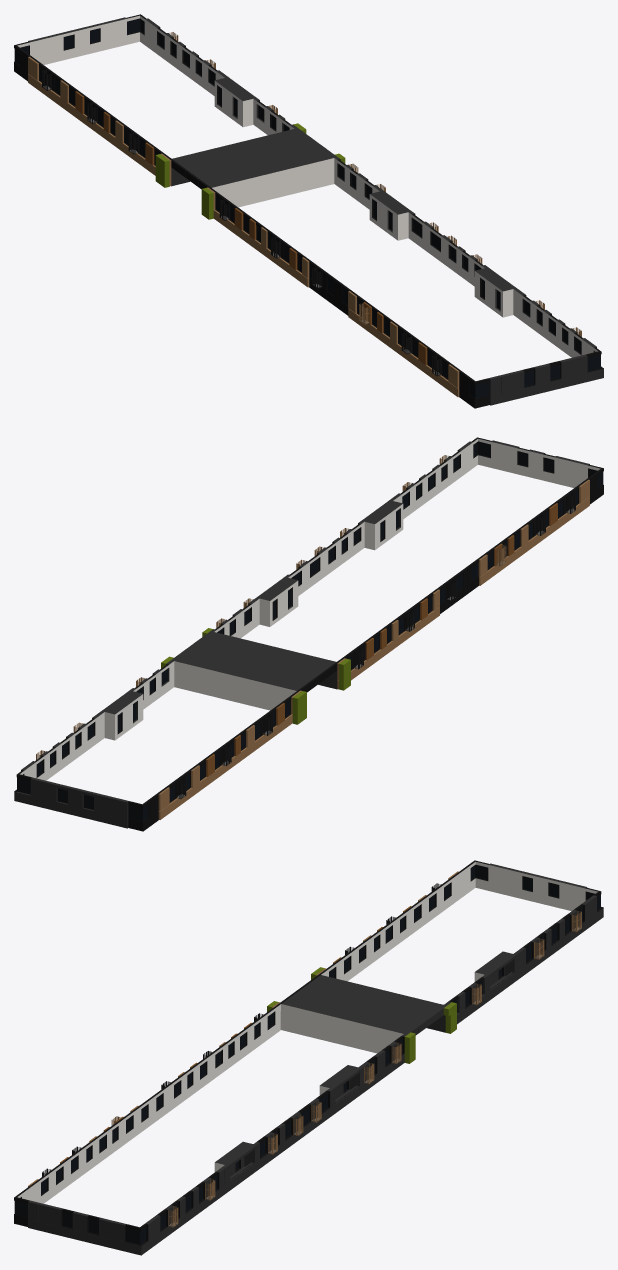
File: floor_2_ext.FBX
3 views of the same model, one above another, from view 1: azimuth 30°, elevation 25°; view 2: azimuth 150°, elevation 25°; view 3: azimuth 330°, elevation 25° (orthographic).
Parts seen in each view (by area): view 1: floor_2_ext; view 2: floor_2_ext; view 3: floor_2_ext.
Boxes of the visible parts, <box> form: floor_2_ext: <box>14,14,603,408</box>; floor_2_ext: <box>14,437,603,831</box>; floor_2_ext: <box>14,860,603,1255</box>.
Size of the model in its own units: 18.75 by 3.35 by 108.
